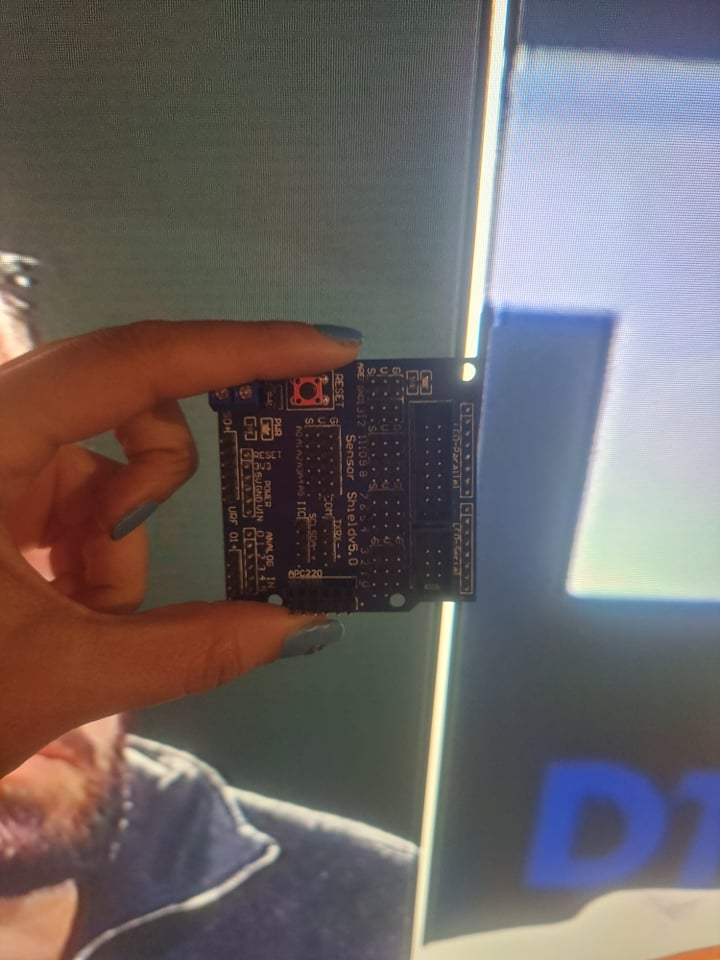5V EXPANSION: (196, 350, 482, 617)
